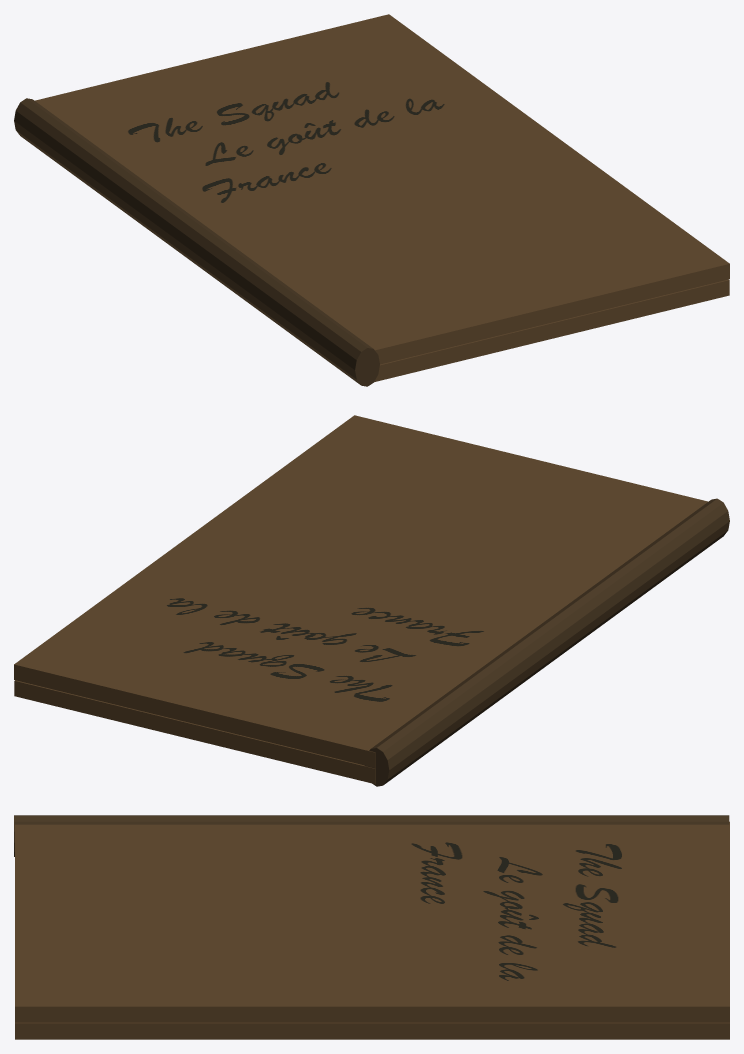
File: Menu_closed.fbx
3 views of the same model, one above another, from view 1: azimuth 30°, elevation 25°; view 2: azimuth 150°, elevation 25°; view 3: azimuth 270°, elevation 25° (orthographic). The views are drawn at different scales.
Visible parts, largest first — view 1: pCube3; view 2: pCube3; view 3: pCube3.
Boxes of the visible parts, box(x1,y1,x2,y2) form: pCube3: box(14, 14, 729, 386); pCube3: box(14, 415, 729, 786); pCube3: box(14, 815, 729, 1039).
Size of the model in its own units: 27.59 by 2.73 by 43.46.
